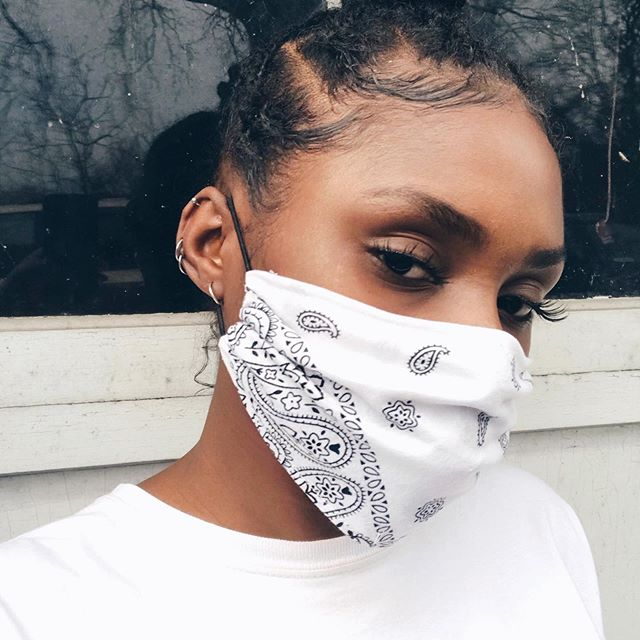homemade: (209, 217, 557, 562)
